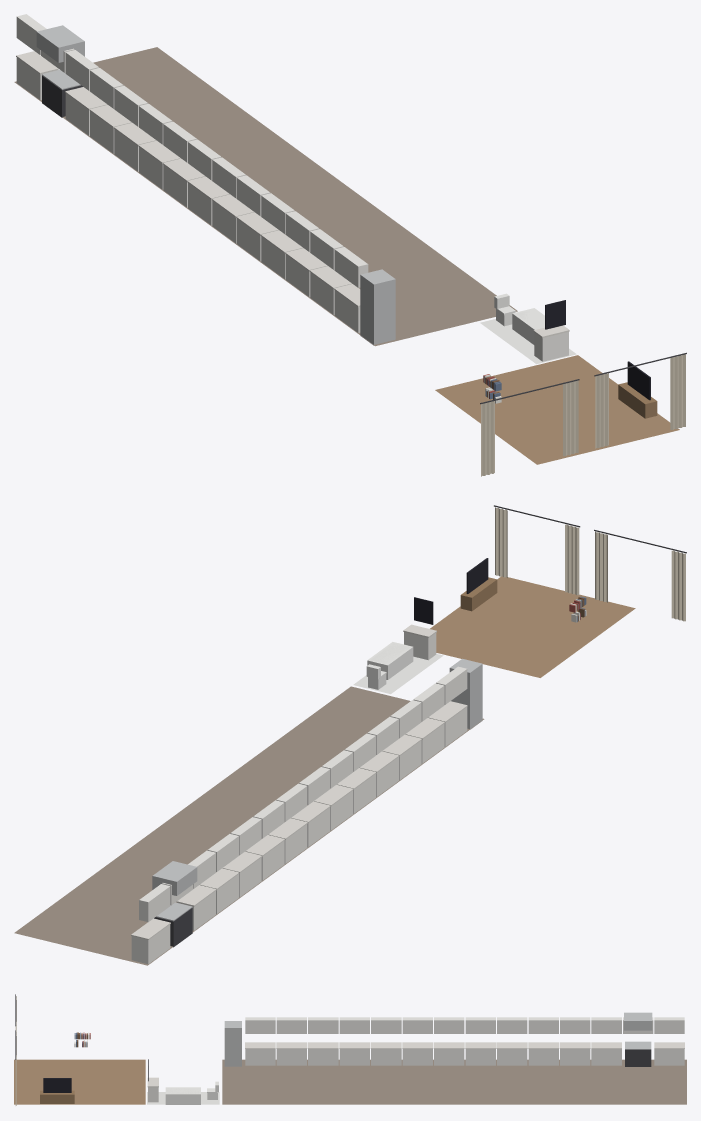
Rendered from fine-s1.glb.
3 views of the same model, one above another, from view 1: azimuth 30°, elevation 25°; view 2: azimuth 150°, elevation 25°; view 3: azimuth 270°, elevation 25° (orthographic). The views are drawn at different scales.
Visible parts, largest first — view 1: soft-s1, fridge.000, range.000, vanity.000, tv-console.001, counter-run.000, counter-run.008, counter-run.010, counter-run.005, counter-run.006, counter-run.007, counter-run.009 (+20 smaller); view 2: soft-s1, range.000, counter-run.000, vanity.000, fridge.000, tv-console.001, bathtub.000, counter-run.001, counter-run.005, counter-run.006, counter-run.007, counter-run.012 (+19 smaller); view 3: soft-s1, range.000, tv-console.001, fridge.000, counter-run.002, counter-run.004, counter-run.005, counter-run.007, counter-run.009, counter-run.011, counter-run.000, counter-run.001 (+20 smaller).
Boxes of the visible parts, box(x1,y1,x2,y2) form: soft-s1: box(14, 47, 686, 476); fridge.000: box(360, 269, 395, 345); range.000: box(36, 25, 84, 117); vanity.000: box(533, 300, 569, 361); tv-console.001: box(618, 361, 657, 418); counter-run.000: box(16, 51, 58, 100); counter-run.008: box(236, 212, 278, 261); counter-run.010: box(285, 248, 327, 297); counter-run.005: box(163, 158, 205, 207); counter-run.006: box(187, 176, 229, 225); counter-run.007: box(212, 194, 254, 243); counter-run.009: box(260, 230, 302, 279); soft-s1: box(14, 505, 686, 965); range.000: box(152, 861, 197, 947); counter-run.000: box(131, 918, 170, 964); vanity.000: box(403, 597, 436, 660); fridge.000: box(449, 658, 482, 729); tv-console.001: box(460, 558, 497, 611); bathtub.000: box(367, 642, 413, 679); counter-run.001: box(176, 885, 216, 930); counter-run.005: box(268, 818, 307, 863); counter-run.006: box(291, 801, 330, 847); counter-run.007: box(314, 784, 353, 830); counter-run.012: box(428, 701, 467, 746); soft-s1: box(14, 994, 686, 1105); range.000: box(624, 1012, 652, 1066); tv-console.001: box(40, 1078, 74, 1103); fridge.000: box(224, 1021, 241, 1066); counter-run.002: box(559, 1042, 590, 1065); counter-run.004: box(496, 1042, 527, 1065); counter-run.005: box(465, 1042, 496, 1065); counter-run.007: box(402, 1042, 433, 1065); counter-run.009: box(339, 1042, 370, 1065); counter-run.011: box(276, 1042, 307, 1065); counter-run.000: box(654, 1042, 684, 1065); counter-run.001: box(591, 1042, 621, 1065).
Size of the model in its own units: 7.06 by 2.45 by 31.
